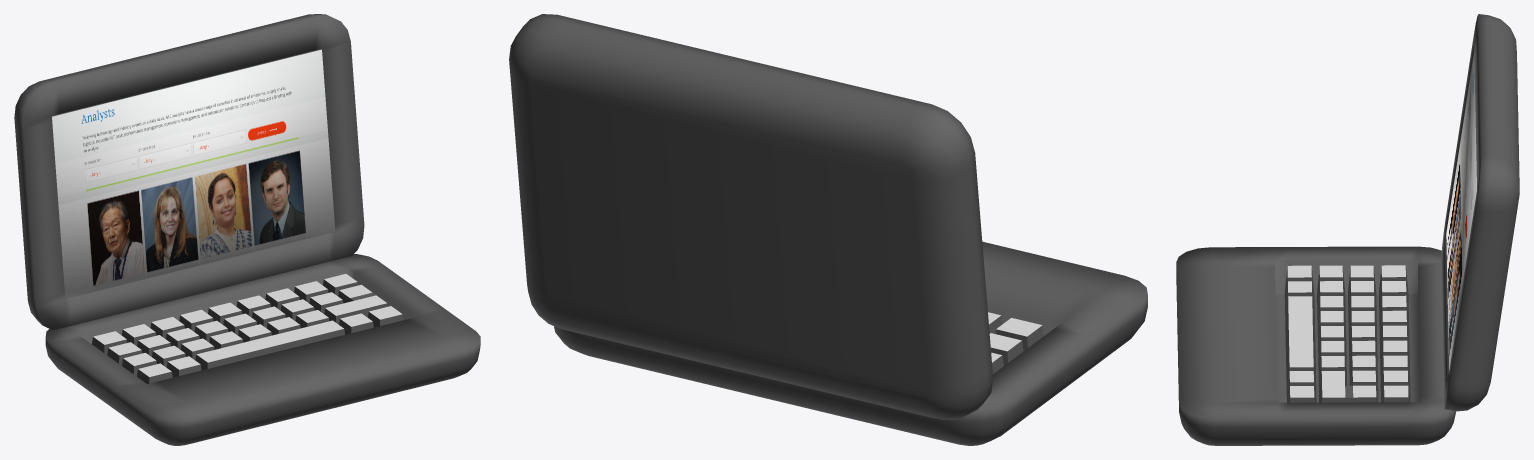
The model's file is arc-laptop.glb.
3 renders of one model, left to right at view 1: azimuth 30°, elevation 25°; view 2: azimuth 150°, elevation 25°; view 3: azimuth 270°, elevation 25°, orthographic. The views are drawn at different scales.
Visible parts, largest first — view 1: Plane.002; view 2: Plane.002; view 3: Plane.002.
Boxes of the visible parts, x1,y1,x2,y2 form: Plane.002: (14, 14, 480, 445); Plane.002: (509, 14, 1147, 445); Plane.002: (1176, 14, 1519, 445).
Size of the model in its own units: 6.21 by 4.76 by 5.25.
Materials: 3 (1 with a texture image).
